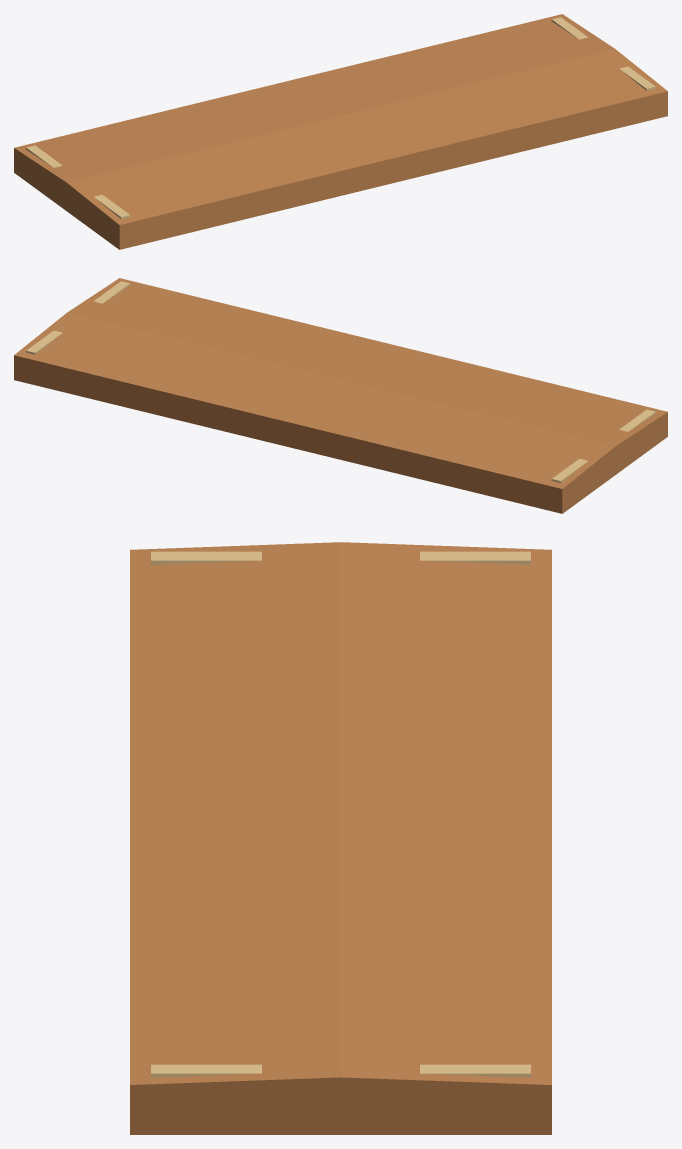
File: plank_1_2.glb
3 views of the same model, one above another, from view 1: azimuth 30°, elevation 25°; view 2: azimuth 150°, elevation 25°; view 3: azimuth 270°, elevation 25° (orthographic). The views are drawn at different scales.
Parts seen in each view (by area): view 1: plank; view 2: plank; view 3: plank.
Part boxes in pixels (x1,y1,x2,y2): plank: [14, 14, 667, 249]; plank: [14, 278, 667, 513]; plank: [130, 542, 551, 1134].
Bounding box in the file's own units: 0.12 × 0.006 × 0.04.
